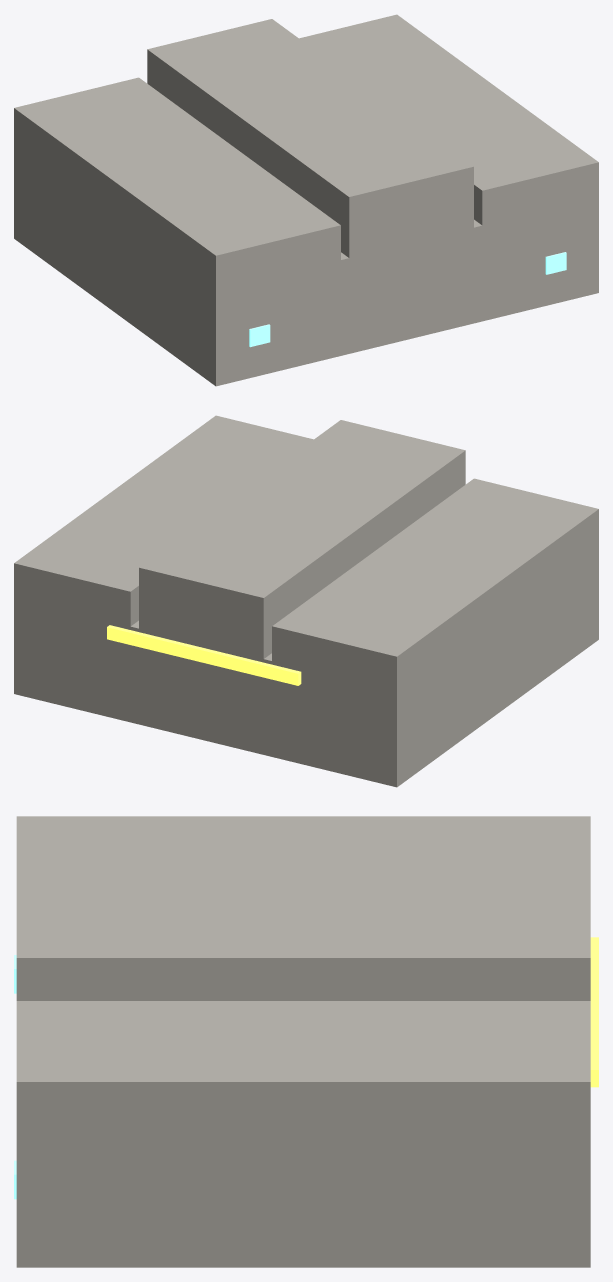
Rendered from workshop_lod1-DmlCjfDY.glb.
3 renders of one model, top to bottom at view 1: azimuth 30°, elevation 25°; view 2: azimuth 150°, elevation 25°; view 3: azimuth 270°, elevation 25°, orthographic. The views are drawn at different scales.
Visible parts, largest first — view 1: body, window; view 2: body, sign; view 3: body, sign.
Boxes of the visible parts, x1,y1,x2,y2 form: body: (14,14,598,386); window: (249,252,566,347); body: (14,415,598,787); sign: (107,625,301,685); body: (16,816,590,1267); sign: (590,937,598,1087).
Size of the model in its own units: 0.92 by 0.36 by 0.856.
